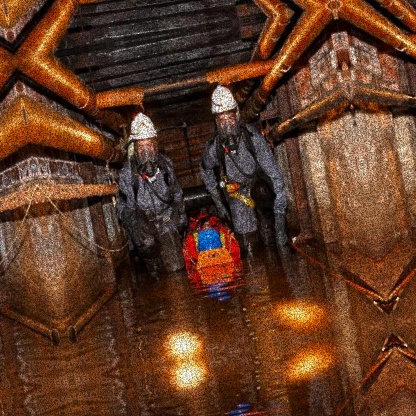white: (205, 81, 247, 126), (124, 107, 163, 148)
